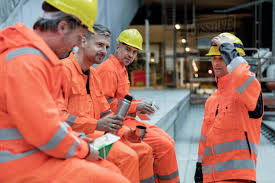helmet: (49, 1, 95, 20), (210, 33, 243, 56), (121, 26, 142, 48)
